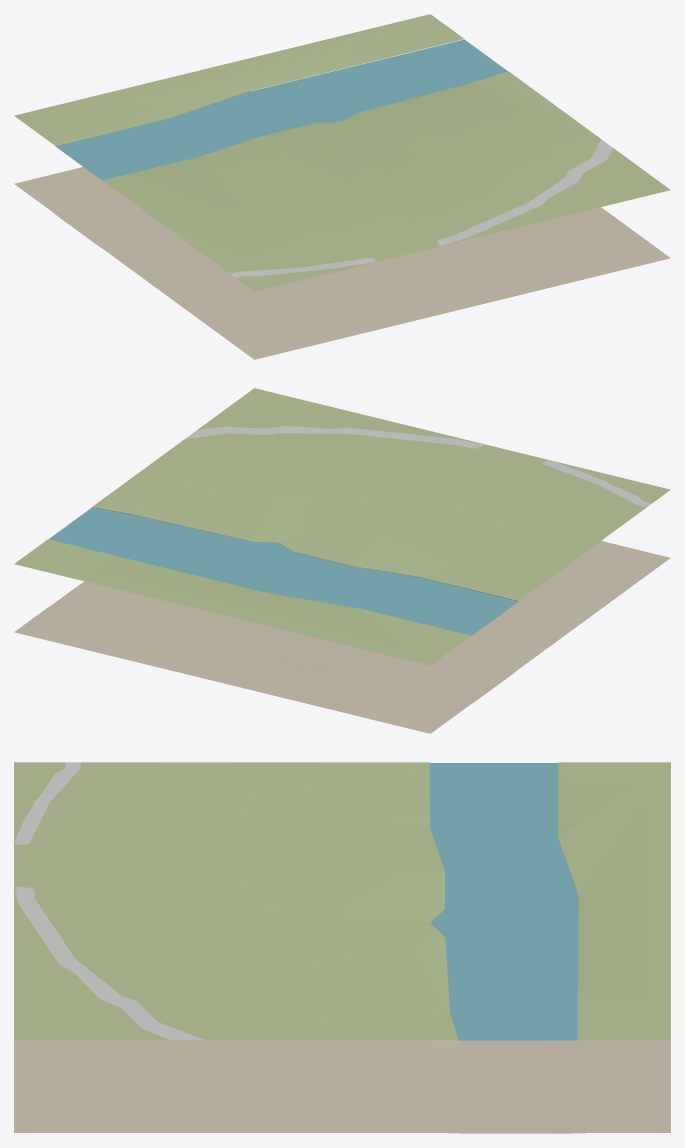
3 renders of one model, top to bottom at view 1: azimuth 30°, elevation 25°; view 2: azimuth 150°, elevation 25°; view 3: azimuth 270°, elevation 25°, orthographic. The views are drawn at different scales.
Parts seen in each view (by area): view 1: s_-8_-7__grass, s_-8_-7__soil, s_-8_-7__water, s_-8_-7__stone_paving; view 2: s_-8_-7__grass, s_-8_-7__soil, s_-8_-7__water, s_-8_-7__stone_paving; view 3: s_-8_-7__grass, s_-8_-7__soil, s_-8_-7__water, s_-8_-7__stone_paving.
Part boxes in pixels (bbox=[...]): s_-8_-7__grass: bbox=[14, 14, 670, 291]; s_-8_-7__soil: bbox=[14, 167, 670, 359]; s_-8_-7__water: bbox=[55, 39, 507, 180]; s_-8_-7__stone_paving: bbox=[230, 139, 613, 277]; s_-8_-7__grass: bbox=[14, 388, 670, 665]; s_-8_-7__soil: bbox=[14, 541, 670, 733]; s_-8_-7__water: bbox=[49, 507, 518, 635]; s_-8_-7__stone_paving: bbox=[185, 426, 651, 507]; s_-8_-7__grass: bbox=[14, 762, 670, 1039]; s_-8_-7__soil: bbox=[14, 1040, 670, 1133]; s_-8_-7__water: bbox=[429, 763, 578, 1040]; s_-8_-7__stone_paving: bbox=[14, 762, 203, 1039].
Bounding box in the file's own units: 128 × 20.14 × 128.
